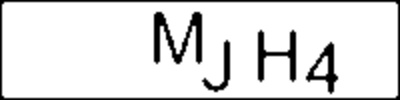4: (304, 39, 340, 94)
H: (251, 22, 304, 85)
J: (197, 33, 236, 95)
M: (150, 7, 207, 66)
